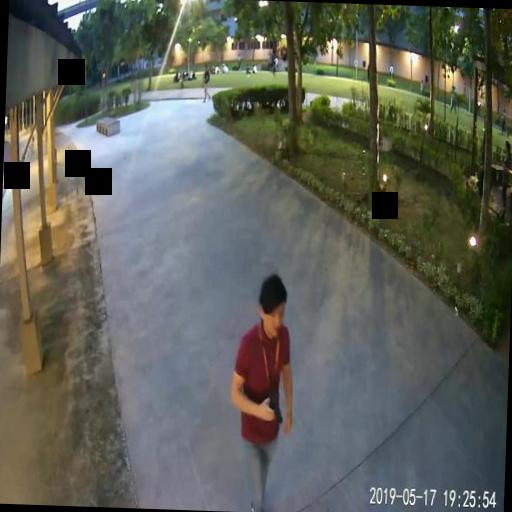Handgun: (265, 392, 281, 422)
